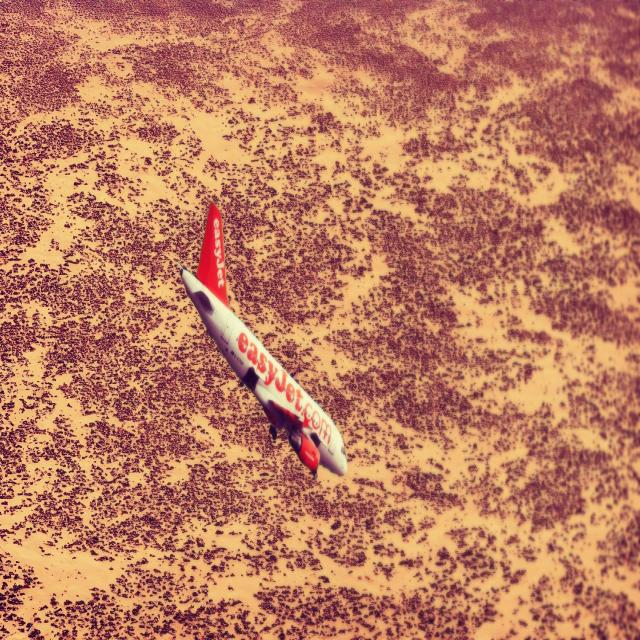airplane: (178, 201, 348, 480)
